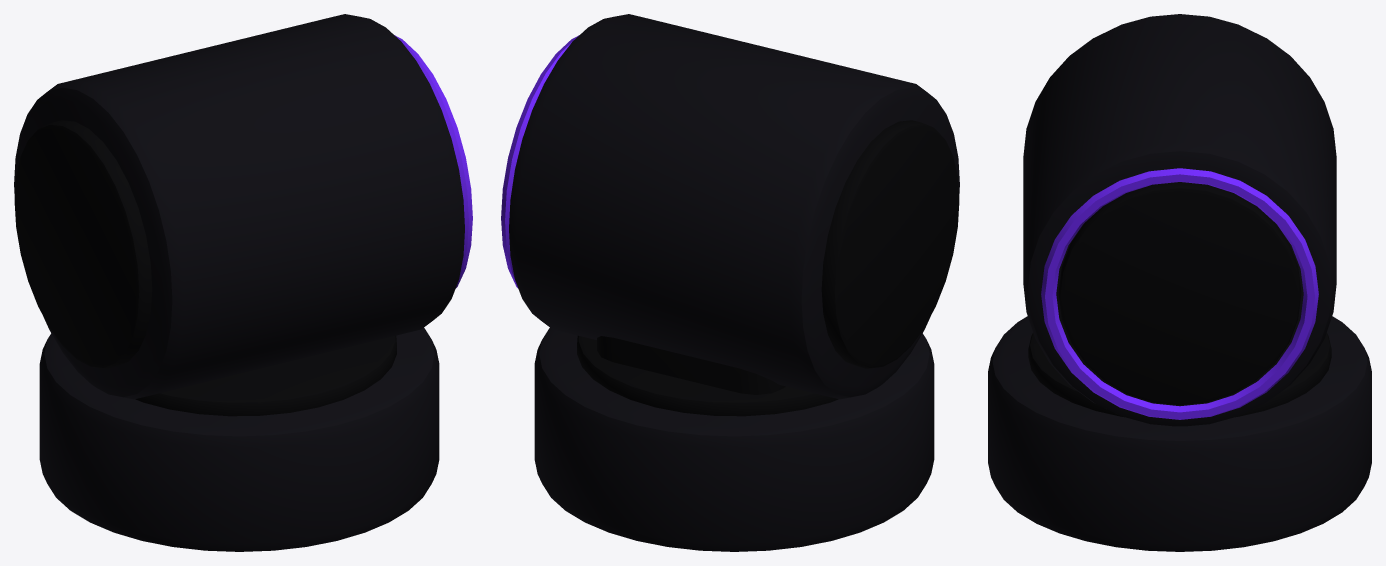
Rendered from coxa_r.obj.
The picture shows the model from 3 angles, left to right: view 1: azimuth 30°, elevation 25°; view 2: azimuth 150°, elevation 25°; view 3: azimuth 270°, elevation 25°; orthographic projection. The views are drawn at different scales.
Visible parts, largest first — view 1: coxa_r; view 2: coxa_r; view 3: coxa_r.
Boxes of the visible parts, box(x1,y1,x2,y2) form: coxa_r: box(14, 14, 472, 551); coxa_r: box(501, 14, 959, 551); coxa_r: box(988, 14, 1371, 551).
Size of the model in its own units: 0.076 by 0.087 by 0.076.
